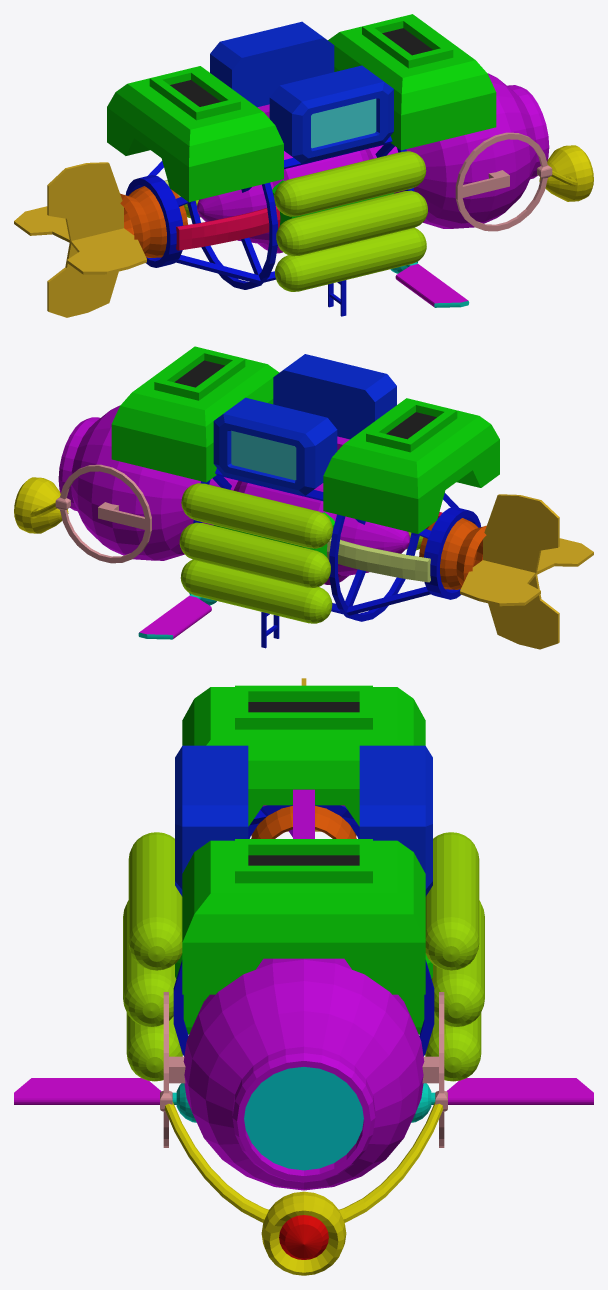
Rendered from IncSubOptimized.fbx.
3 renders of one model, top to bottom at view 1: azimuth 30°, elevation 25°; view 2: azimuth 150°, elevation 25°; view 3: azimuth 270°, elevation 25°, orthographic. The views are drawn at different scales.
Parts seen in each view (by area): view 1: Hull, Tanks, BatteryPack2, ThrusterFins, LightWheel, Thruster, PowerCableStbd, Light, FinPStbd; view 2: Hull, Tanks, BatteryPack2, ThrusterFins, LightWheel, Thruster, PowerCablePort, Light, FinPort; view 3: Hull, Tanks, BatteryPack2, Light, FinPStbd, FinPort, LightWheel, Thruster.
Boxes of the visible parts, <box> form: Hull: <box>107,14,549,316</box>; Tanks: <box>183,151,427,291</box>; BatteryPack2: <box>210,21,393,163</box>; ThrusterFins: <box>14,162,146,317</box>; LightWheel: <box>455,132,552,231</box>; Thruster: <box>120,186,187,257</box>; PowerCableStbd: <box>176,205,280,250</box>; Light: <box>539,145,593,201</box>; FinPStbd: <box>390,261,469,307</box>; Hull: <box>58,346,499,648</box>; Tanks: <box>179,450,423,623</box>; BatteryPack2: <box>213,354,396,495</box>; ThrusterFins: <box>460,494,593,649</box>; LightWheel: <box>55,464,151,563</box>; Thruster: <box>419,518,486,589</box>; PowerCablePort: <box>326,537,430,582</box>; Light: <box>14,477,68,533</box>; FinPort: <box>138,593,216,639</box>; Hull: <box>173,685,434,1190</box>; Tanks: <box>123,832,484,1081</box>; BatteryPack2: <box>175,745,432,896</box>; Light: <box>164,1102,443,1275</box>; FinPStbd: <box>14,1078,196,1122</box>; FinPort: <box>411,1078,593,1122</box>; LightWheel: <box>160,992,447,1147</box>; Thruster: <box>251,806,356,838</box>.
Bounding box in the file's own units: 758 × 347 × 477.
